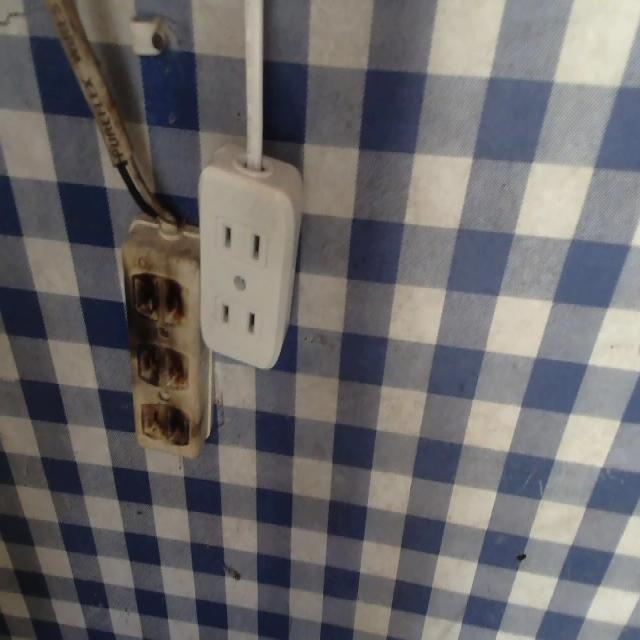-: (127, 264, 191, 333), (128, 335, 197, 393), (132, 396, 195, 449)
